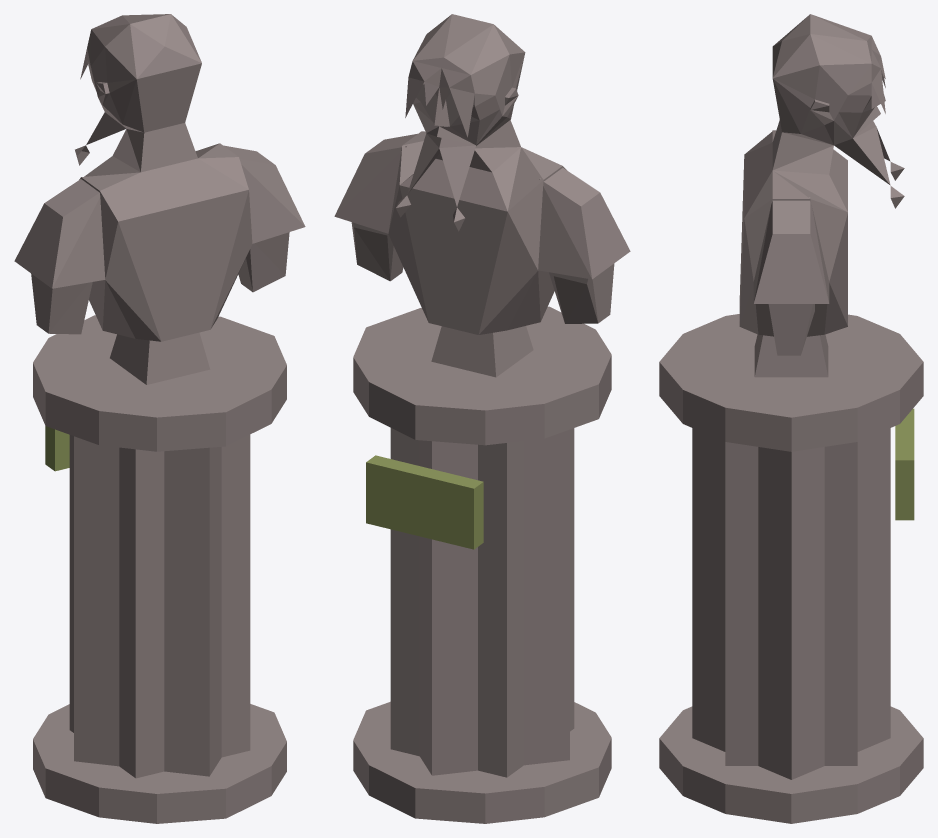
Rendered from obj_statue_2_0.obj.
3 renders of one model, left to right at view 1: azimuth 30°, elevation 25°; view 2: azimuth 150°, elevation 25°; view 3: azimuth 270°, elevation 25°, orthographic.
Bounding box in the file's own units: 0.4844 × 1.36 × 0.4375.
